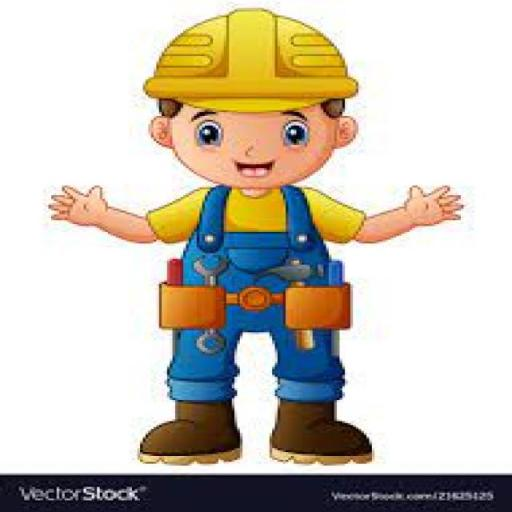helmet: (140, 6, 362, 116)
